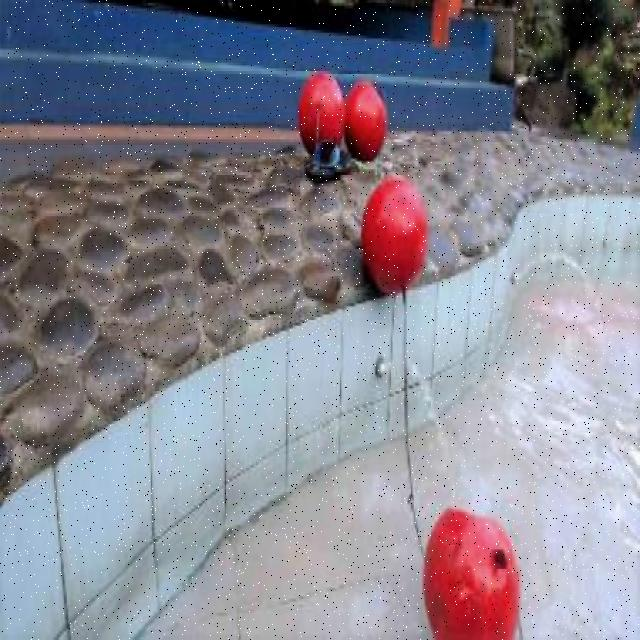buoy: (423, 505, 519, 638), (360, 175, 428, 296), (298, 71, 345, 154), (344, 80, 386, 160)
